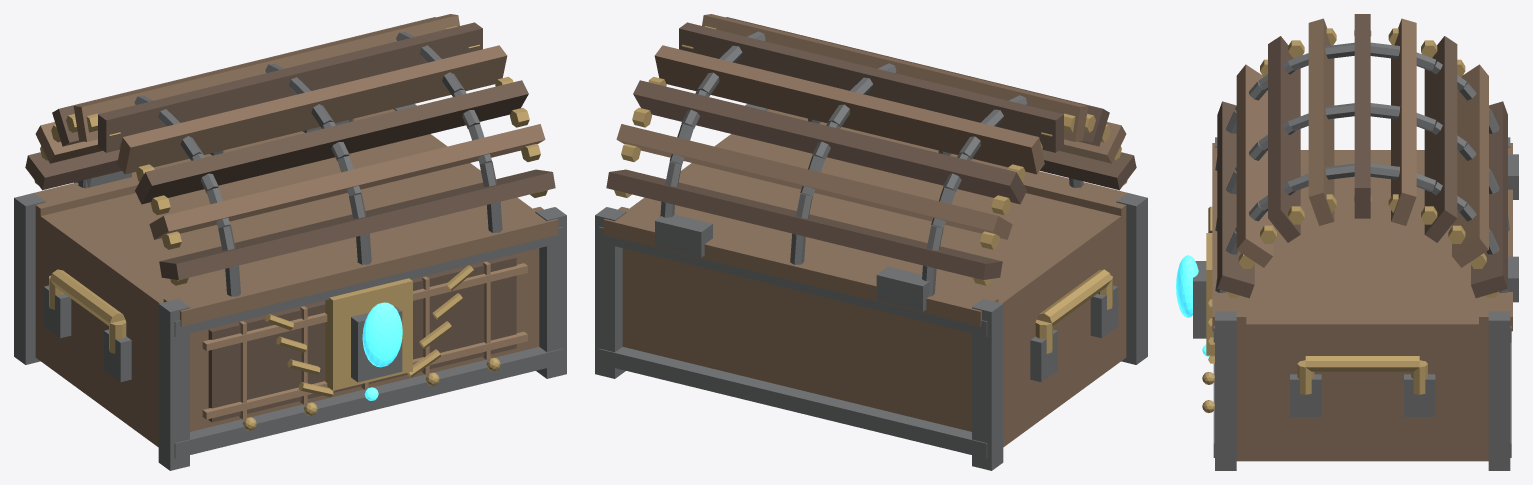
The model's file is Midgard_Forgotten_Cache_Chest_V1_YUP (1).glb.
3 renders of one model, left to right at view 1: azimuth 30°, elevation 25°; view 2: azimuth 150°, elevation 25°; view 3: azimuth 270°, elevation 25°, orthographic. The views are drawn at different scales.
Parts seen in each view (by area): view 1: Body, FrontInset, LidPlank_4, LidPlank_3, LidPlank_0, LidPlank_5, LidPlank_1, LidPlank_2, FrontFrame_0.12, LidPlank_6, LockPlate, Corner_-1.7 (+16 smaller); view 2: Body, LidPlank_6, LidPlank_7, LidPlank_5, LidPlank_9, BackFrame_0.12, LidPlank_10, LidPlank_8, LidPlank_4, SideCorner_-1.7, Corner_-1.7, SideCorner_1.7 (+10 smaller); view 3: Body, LidPlank_7, LidPlank_3, LidPlank_8, LidPlank_2, LidPlank_4, LidPlank_6, LidPlank_1, SideCorner_1.7, LidPlank_9, Corner_1.7, LidPlank_5 (+18 smaller).
Boxes of the visible parts, x1,y1,x2,y2 form: Body: (35, 134, 539, 447); FrontInset: (208, 255, 516, 422); LidPlank_4: (117, 45, 507, 174); LidPlank_3: (135, 80, 528, 204); LidPlank_0: (163, 207, 558, 326); LidPlank_5: (98, 22, 482, 152); LidPlank_1: (159, 169, 555, 279); LidPlank_2: (149, 124, 545, 239); FrontFrame_0.12: (174, 347, 562, 458); LidPlank_6: (73, 14, 459, 141); LockPlate: (325, 278, 412, 390); Corner_-1.7: (158, 299, 189, 470); Body: (622, 134, 1126, 447); LidPlank_6: (654, 45, 1044, 174); LidPlank_7: (633, 80, 1026, 204); LidPlank_5: (679, 22, 1063, 152); LidPlank_9: (606, 169, 1002, 279); BackFrame_0.12: (599, 347, 987, 458); LidPlank_10: (603, 207, 998, 326); LidPlank_8: (616, 124, 1012, 239); LidPlank_4: (702, 14, 1088, 141); SideCorner_-1.7: (972, 299, 1003, 470); Corner_-1.7: (1116, 193, 1147, 364); SideCorner_1.7: (595, 207, 626, 378); Body: (1236, 150, 1488, 461); LidPlank_7: (1424, 36, 1457, 242); LidPlank_3: (1268, 36, 1300, 242); LidPlank_8: (1452, 64, 1488, 267); LidPlank_2: (1236, 64, 1273, 267); LidPlank_4: (1308, 18, 1334, 225); LidPlank_6: (1391, 18, 1416, 225); LidPlank_1: (1217, 101, 1254, 298); SideCorner_1.7: (1488, 311, 1510, 470); LidPlank_9: (1471, 101, 1507, 298); Corner_1.7: (1215, 311, 1236, 470); LidPlank_5: (1354, 14, 1370, 218).
Size of the model in its own units: 3.8 by 2.54 by 2.83.
